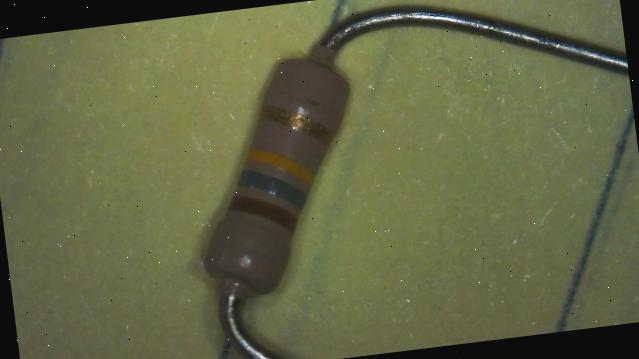brown: (225, 188, 299, 239)
gold: (256, 97, 332, 154)
grey: (237, 163, 308, 215)
resistor: (167, 29, 366, 313)
yellow: (242, 141, 316, 193)
